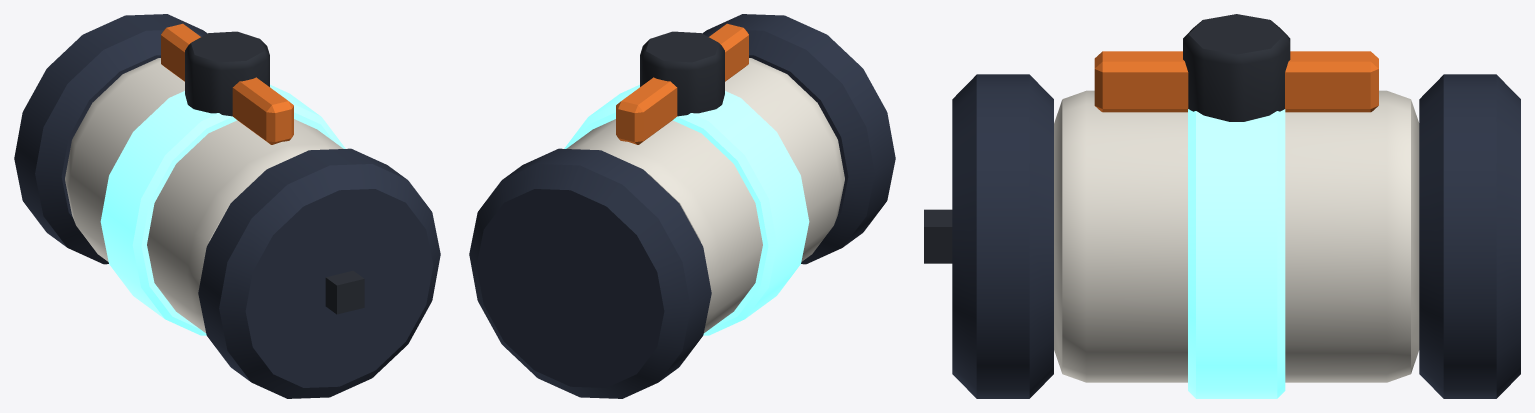
Rendered from wpn_stun_grenade.fbx.
The picture shows the model from 3 angles, left to right: view 1: azimuth 30°, elevation 25°; view 2: azimuth 150°, elevation 25°; view 3: azimuth 270°, elevation 25°; orthographic projection. The views are drawn at different scales.
Visible parts, largest first — view 1: Body, Glow, Muzzle; view 2: Body, Glow; view 3: Body, Glow, Muzzle.
Part boxes in pixels (x1,y1,x2,y2): Body: (14,14,440,398); Glow: (100,84,345,335); Muzzle: (325,270,364,314); Body: (469,14,895,398); Glow: (564,84,809,335); Body: (952,14,1520,398); Glow: (1188,109,1285,398); Muzzle: (924,209,952,263).
Size of the model in its own units: 0.8 by 0.95 by 1.47.
3 materials, 1 textured.
